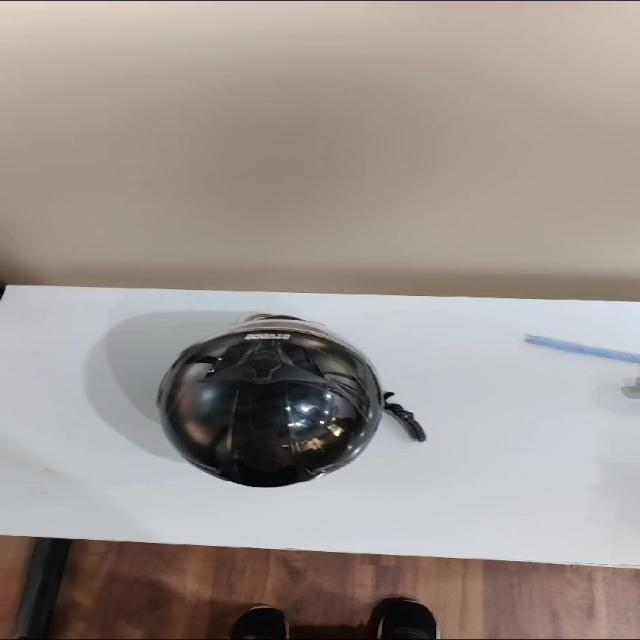helmet: (138, 321, 386, 495)
